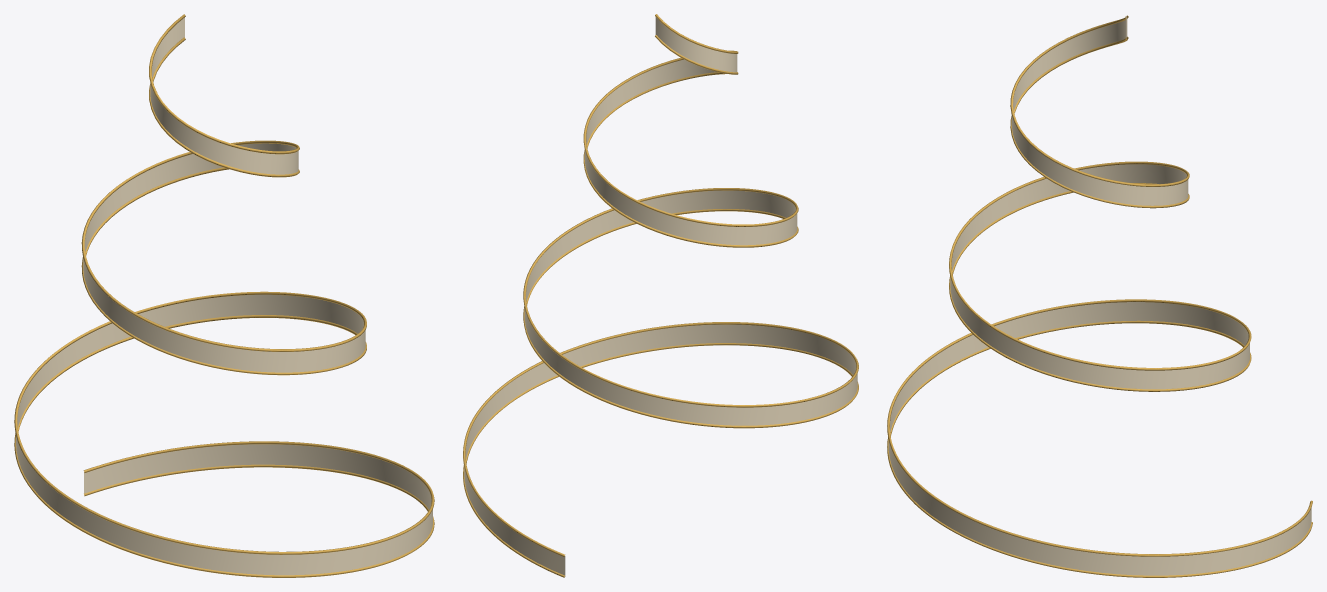
File: ribbon.glb
The picture shows the model from 3 angles, left to right: view 1: azimuth 30°, elevation 25°; view 2: azimuth 150°, elevation 25°; view 3: azimuth 270°, elevation 25°; orthographic projection. The views are drawn at different scales.
Visible parts, largest first — view 1: SpiralRibbon; view 2: SpiralRibbon; view 3: SpiralRibbon.
Boxes of the visible parts, x1,y1,x2,y2 form: SpiralRibbon: [14, 14, 434, 577]; SpiralRibbon: [463, 14, 858, 577]; SpiralRibbon: [887, 15, 1312, 577].
Bounding box in the file's own units: 2.19 × 3.12 × 2.36.
